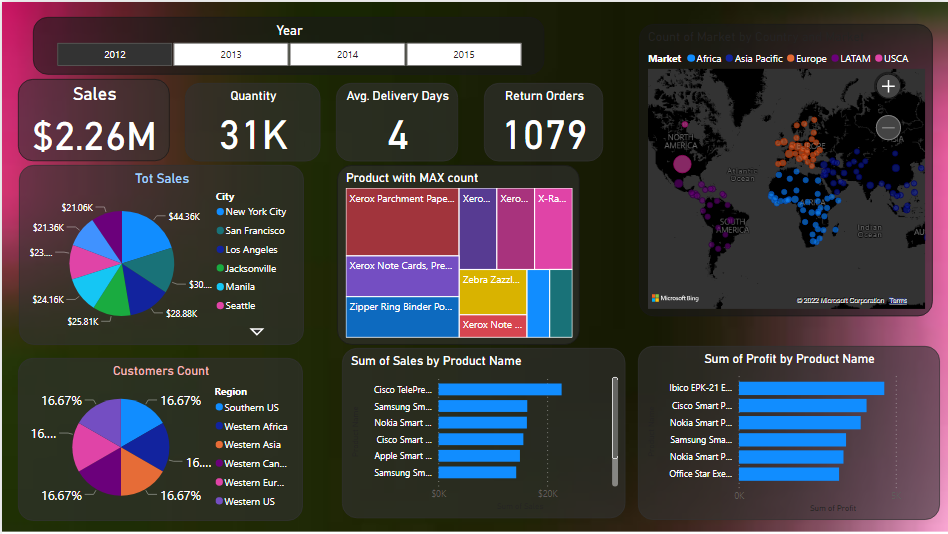

The page's visual inventory and layout, read from the dashboard file:
{"tool":"powerbi","page":{"name":"Page 1","canvas":[1280,720],"ordinal":0},"visuals":[{"type":"card","title":"Sales","fields":{"Values":["Sum(Orders.Sales)"]},"box":[21.8,104.1,204.9,110.9],"z":0},{"type":"card","title":"Quantity","fields":{"Values":["Sum(Orders.Quantity)"]},"box":[246.9,109.2,183.1,105.8],"z":1000},{"type":"card","title":"Avg. Delivery Days","fields":{"Values":["Avg(Orders.Delivery Days)"]},"box":[451.9,109.2,164.6,105.8],"z":2000},{"type":"card","title":"Return Orders","fields":{"Values":["Sum(Returns.Return Orders)"]},"box":[651.8,109.2,161.3,105.8],"z":3000},{"type":"barChart","fields":{"Category":["Orders.Product Name"],"Y":["Sum(Orders.Profit)"]},"box":[860,465,407.5,235],"z":4000},{"type":"barChart","fields":{"Category":["Orders.Product Name"],"Y":["Sum(Orders.Sales)"]},"box":[460,467.5,382.5,230],"z":5000},{"type":"pieChart","title":"Tot Sales","fields":{"Category":["Orders.City"],"Y":["Sum(Orders.Sales)"]},"box":[22.5,220,385,242.5],"z":6000},{"type":"pieChart","title":"Customers Count","fields":{"Y":["CountNonNull(People.Person)"],"Category":["People.Region"]},"box":[21.8,480.4,384.7,220.1],"z":7000},{"type":"treemap","title":"Product with MAX count","fields":{"Group":["Orders.Product Name"],"Values":["CountNonNull(Orders.Region)"]},"box":[452.5,220,327.5,242.5],"z":8000},{"type":"map","fields":{"Category":["Orders.Country"],"Series":["Orders.Market"],"Size":["CountNonNull(Orders.Market)"]},"box":[860.3,29.8,396.9,395.4],"z":9000},{"type":"slicer","title":"Year","fields":{"Values":["Orders.Year"]},"box":[41.3,20.6,690.9,78.5],"z":10000}]}

Visuals, with their boxes in screenshot pixels (x1, y1, x2, y2), scaled from the page's 1280x720 canvas onto the 948x534 screenshot:
"Sales" card: region(16, 77, 168, 159)
"Quantity" card: region(183, 81, 318, 159)
"Avg. Delivery Days" card: region(335, 81, 457, 159)
"Return Orders" card: region(483, 81, 602, 159)
barChart - Orders.Product Name x Sum(Orders.Profit): region(637, 345, 939, 519)
barChart - Orders.Product Name x Sum(Orders.Sales): region(341, 347, 624, 517)
"Tot Sales" pieChart: region(17, 163, 302, 343)
"Customers Count" pieChart: region(16, 356, 301, 520)
"Product with MAX count" treemap: region(335, 163, 578, 343)
map - Orders.Country x Orders.Market: region(637, 22, 931, 315)
"Year" slicer: region(31, 15, 542, 73)
